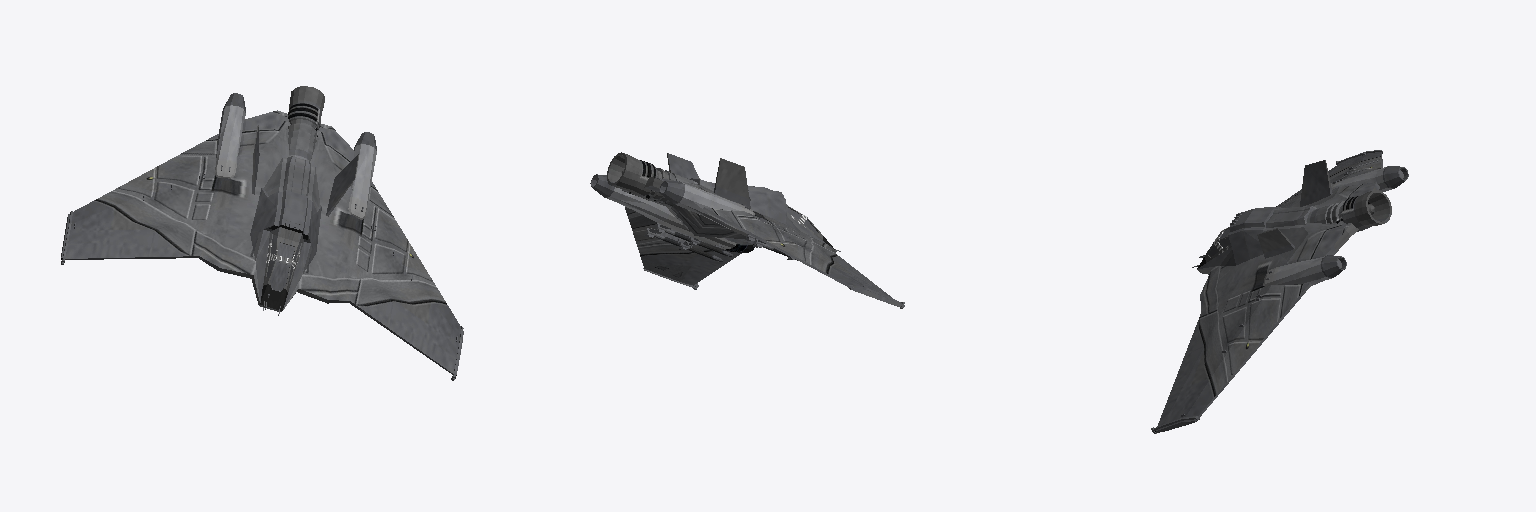
3 renders of one model, left to right at view 1: azimuth 30°, elevation 25°; view 2: azimuth 150°, elevation 25°; view 3: azimuth 270°, elevation 25°, orthographic.
Visible parts, largest first — view 1: GeometryNode_18_1, GeometryNode_26_1, GeometryNode_2_1, GeometryNode_10_1, GeometryNode_18_0, GeometryNode_34; view 2: GeometryNode_18_1, GeometryNode_2_1, GeometryNode_10_1, GeometryNode_26_1, GeometryNode_34; view 3: GeometryNode_18_1, GeometryNode_2_1, GeometryNode_10_1, GeometryNode_26_1, GeometryNode_34, GeometryNode_18_0.
Part boxes in pixels (x1,y1,x2,y2): GeometryNode_18_1: (61,93,463,380); GeometryNode_26_1: (250,188,321,309); GeometryNode_2_1: (61,125,463,375); GeometryNode_10_1: (251,86,324,311); GeometryNode_18_0: (65,122,454,373); GeometryNode_34: (61,256,452,374); GeometryNode_18_1: (591,174,904,308); GeometryNode_2_1: (590,152,904,307); GeometryNode_10_1: (608,153,836,252); GeometryNode_26_1: (667,186,840,251); GeometryNode_34: (644,177,853,289); GeometryNode_18_1: (1151,150,1407,433); GeometryNode_2_1: (1152,151,1408,432); GeometryNode_10_1: (1198,191,1389,274); GeometryNode_26_1: (1198,207,1278,268); GeometryNode_34: (1195,152,1382,421); GeometryNode_18_0: (1157,161,1403,426).
Bounding box in the file's own units: 631 × 409 × 425.
Materials: 1 (1 with a texture image).